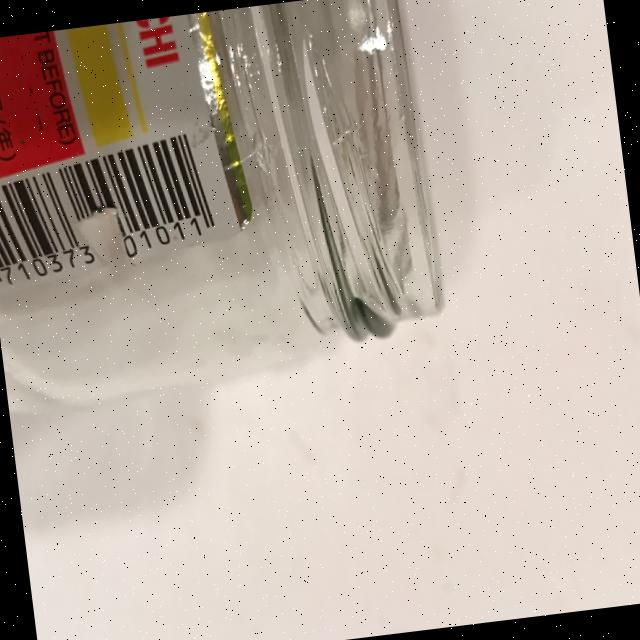glass: (0, 0, 462, 429)
